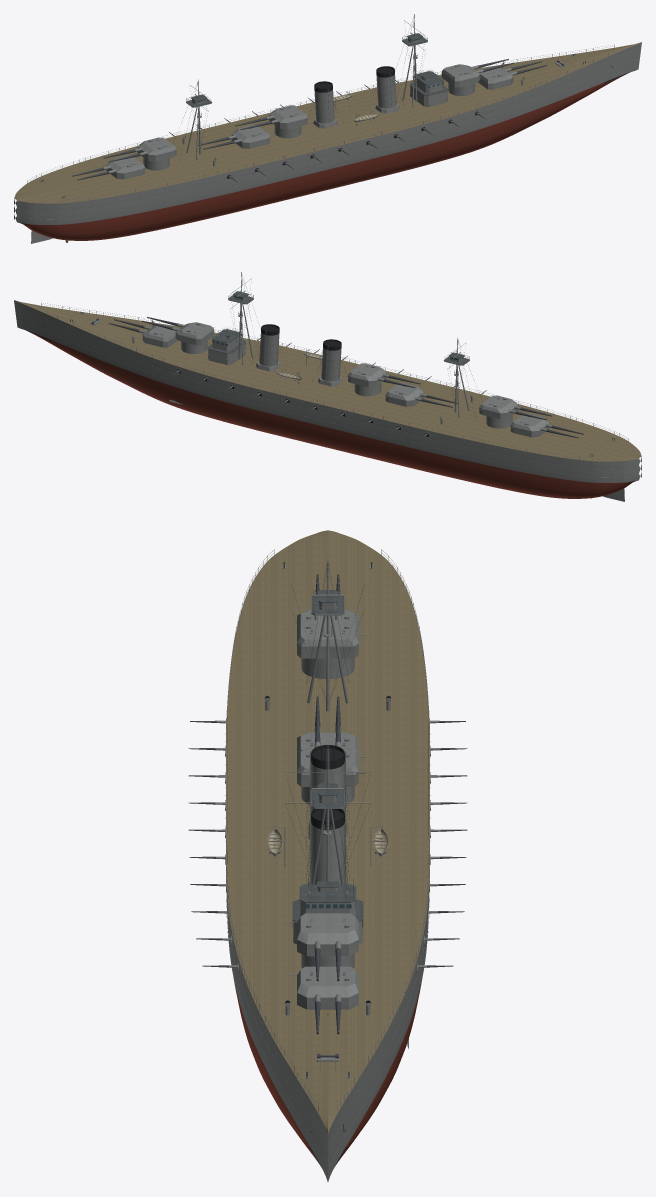
The model's file is ise.glb.
3 renders of one model, top to bottom at view 1: azimuth 30°, elevation 25°; view 2: azimuth 150°, elevation 25°; view 3: azimuth 270°, elevation 25°, orthographic. The views are drawn at different scales.
Visible parts, largest first — view 1: Ise class; view 2: Ise class; view 3: Ise class.
Boxes of the visible parts, bbox=[...] form: Ise class: bbox=[14, 14, 641, 243]; Ise class: bbox=[14, 272, 641, 501]; Ise class: bbox=[188, 530, 467, 1181].
Size of the model in its own units: 208 by 43.94 by 40.04.
9 materials, 8 textured.
